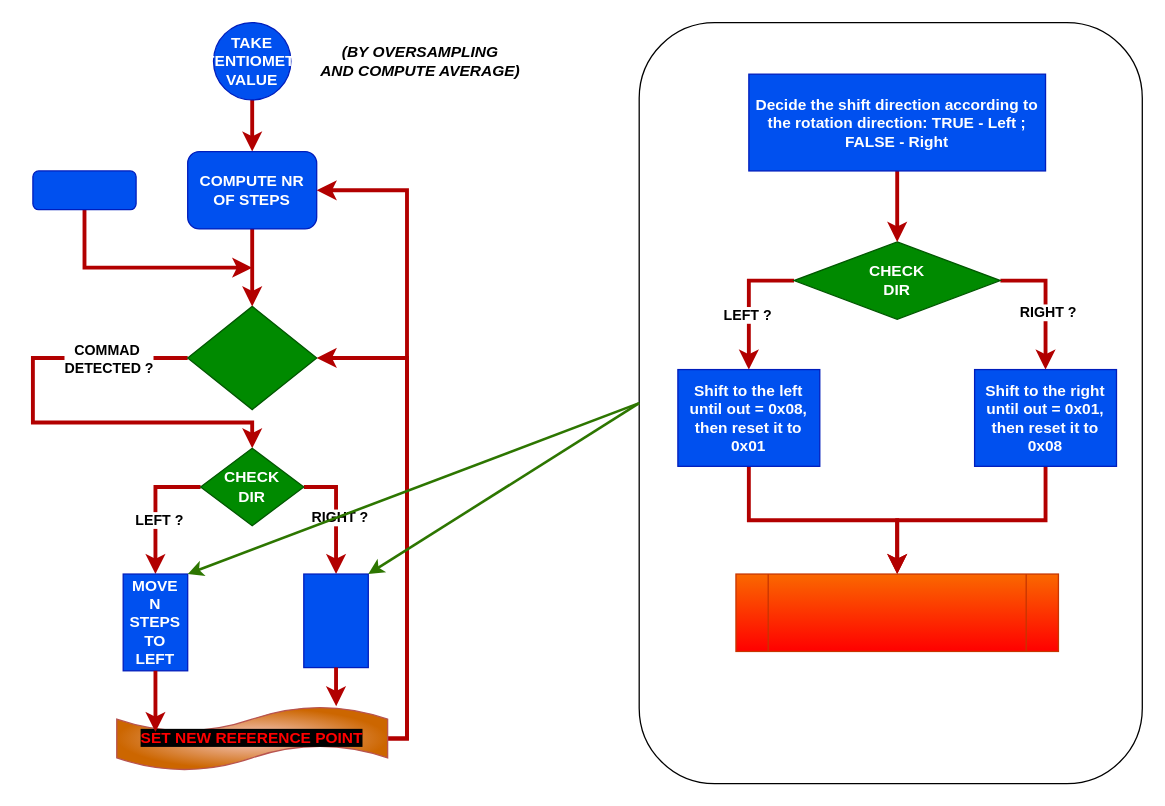
Some shapes in this 1165 by 806 pixel diagram are drawn without their labels. Each missing label, with the centre of its shape:
DETECT COMMAND: point (251, 357)
DIRECTION: point (84, 190)
MOVE N STEPS TO RIGHT: point (335, 620)
Output signal to each port: point (896, 612)
